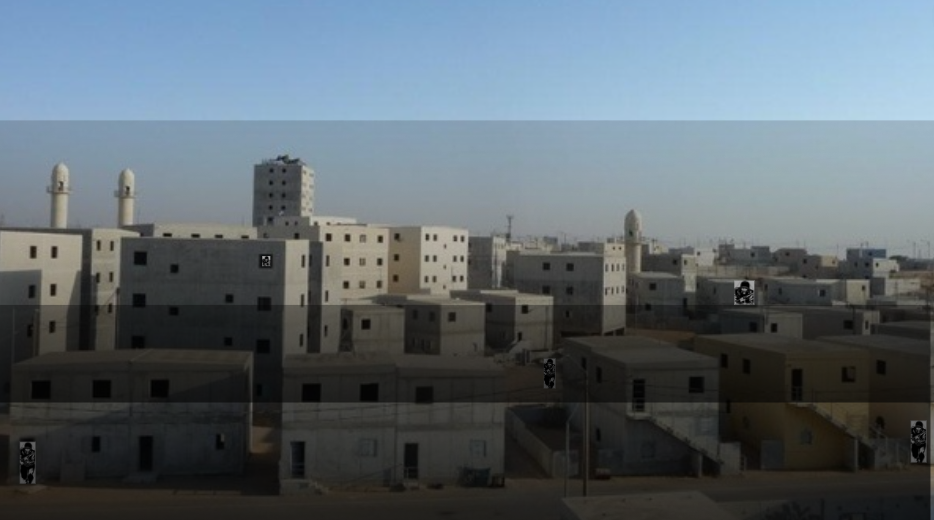HVT1: (19, 442, 36, 484), (911, 420, 927, 462), (734, 280, 754, 305), (544, 358, 555, 387), (262, 255, 270, 266)
